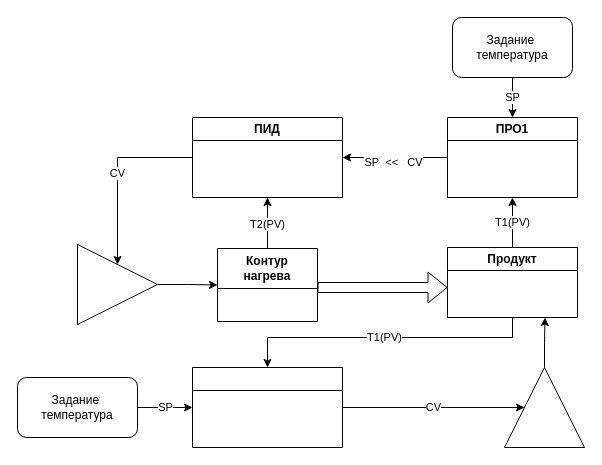
Image size: 602x465. Some labels were removed from this diagram. The centre of each missing label's shape, as x and y in pixels:
"KP1" goes at point 544,407.
"ПРО2" goes at point 267,407.
"ТЭНы" goes at point 117,284.
